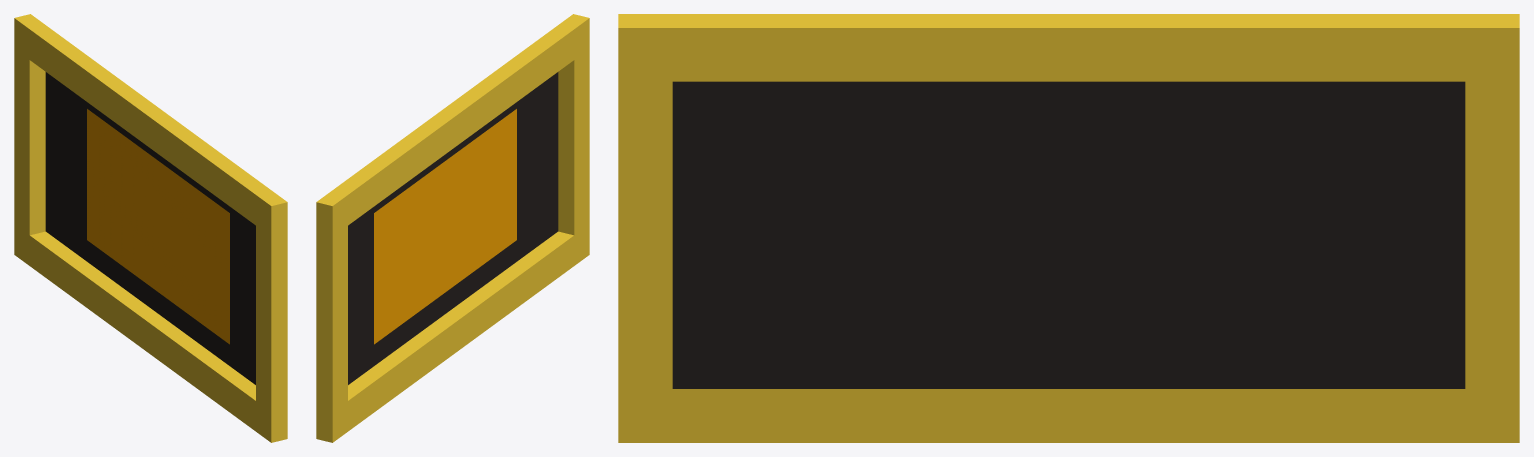
Rendered from VIP_TagA1_geo.fbx.
3 renders of one model, left to right at view 1: azimuth 30°, elevation 25°; view 2: azimuth 150°, elevation 25°; view 3: azimuth 270°, elevation 25°, orthographic. The views are drawn at different scales.
Parts seen in each view (by area): view 1: VIP_TagA1_geo; view 2: VIP_TagA1_geo; view 3: VIP_TagA1_geo.
Boxes of the visible parts, <box> form: VIP_TagA1_geo: <box>14,14,287,442</box>; VIP_TagA1_geo: <box>316,14,589,442</box>; VIP_TagA1_geo: <box>618,14,1519,442</box>.
Bounding box in the file's own units: 0.0634 × 1.73 × 0.8773.
